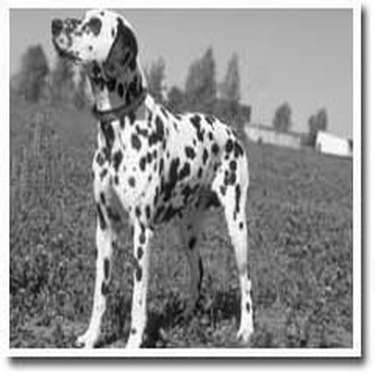dog: (39, 6, 265, 353)
